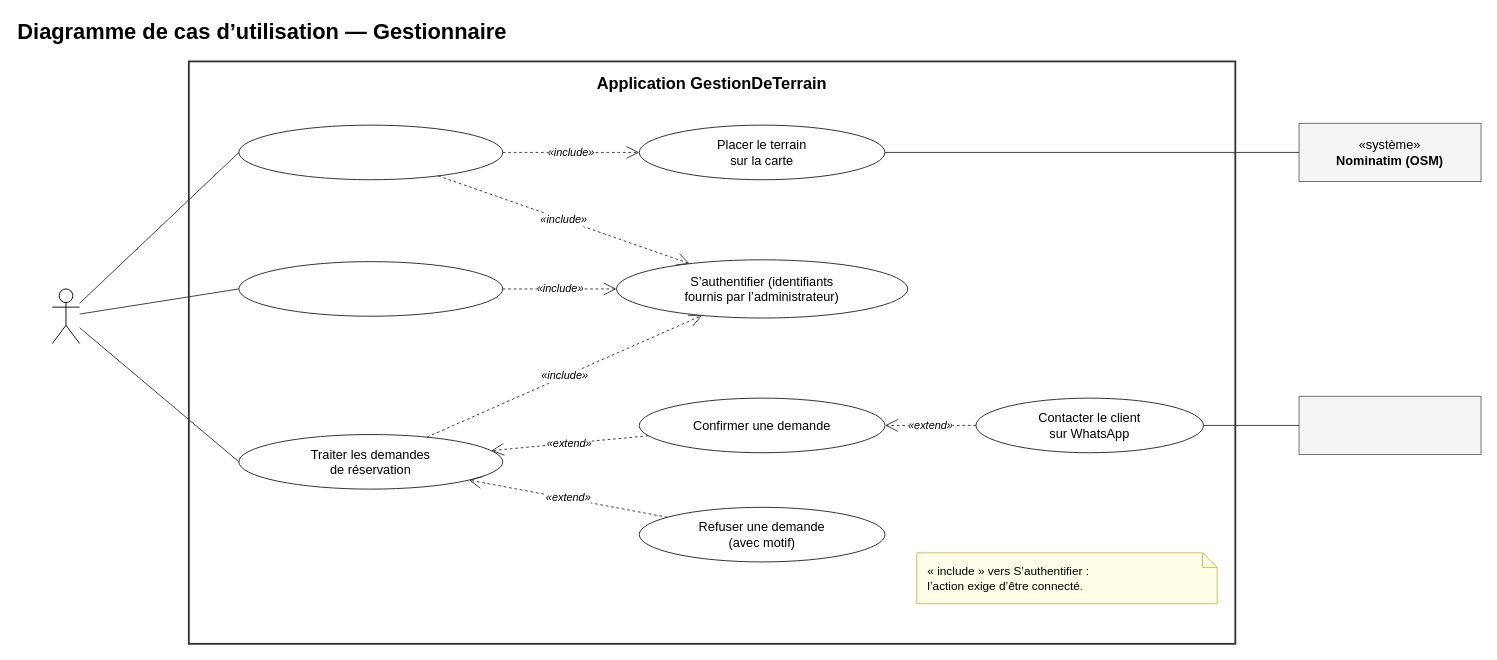
The diagram is 1497 pixels wide and 660 high, and some of its shapes have lost their labels. The shapes that lost their labels are listed below. From the top down, each one's centre as x and y in pixels, then its label:
At [370,152]: "Gérer ses terrains (fiche, photos)".
At [370,288]: "Gérer le planning (horaires, fermetures)".
At [65,316]: "Gestionnaire".
At [1389,425]: "«système» WhatsApp".
